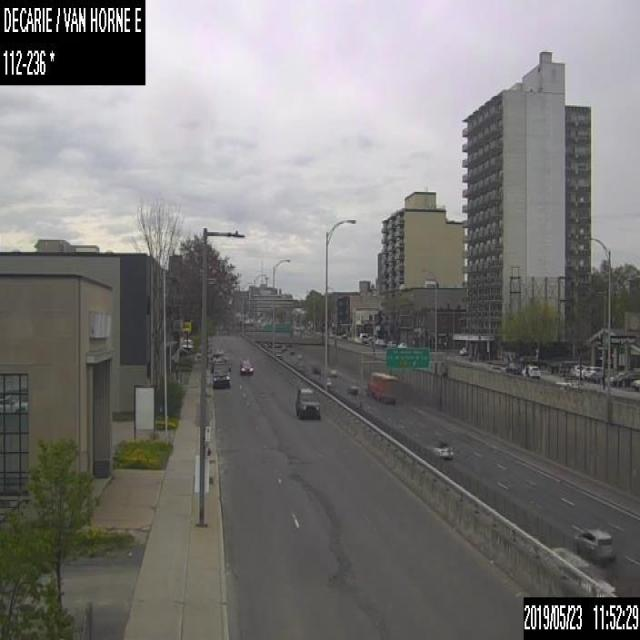vehicle: (551, 546, 614, 593), (573, 528, 612, 564), (364, 372, 396, 403), (294, 387, 321, 417), (211, 361, 230, 387), (210, 348, 227, 372), (613, 372, 639, 386), (432, 442, 454, 458), (583, 365, 602, 379), (523, 364, 540, 377), (505, 360, 521, 373), (239, 359, 253, 373), (609, 372, 625, 384), (590, 369, 603, 382), (346, 382, 359, 393), (574, 365, 584, 378), (182, 338, 192, 348), (632, 378, 639, 390), (375, 337, 385, 345), (312, 363, 320, 373), (398, 340, 407, 347), (296, 351, 304, 358), (386, 340, 396, 345)
